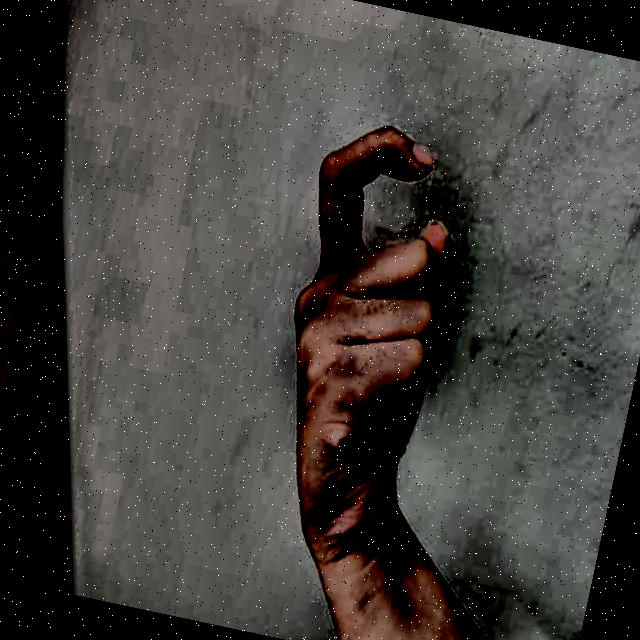E: (215, 76, 534, 564)
